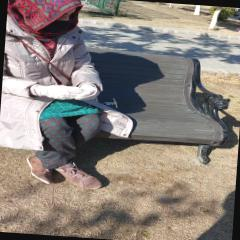gloved: (39, 83, 81, 100), (76, 84, 98, 102)
